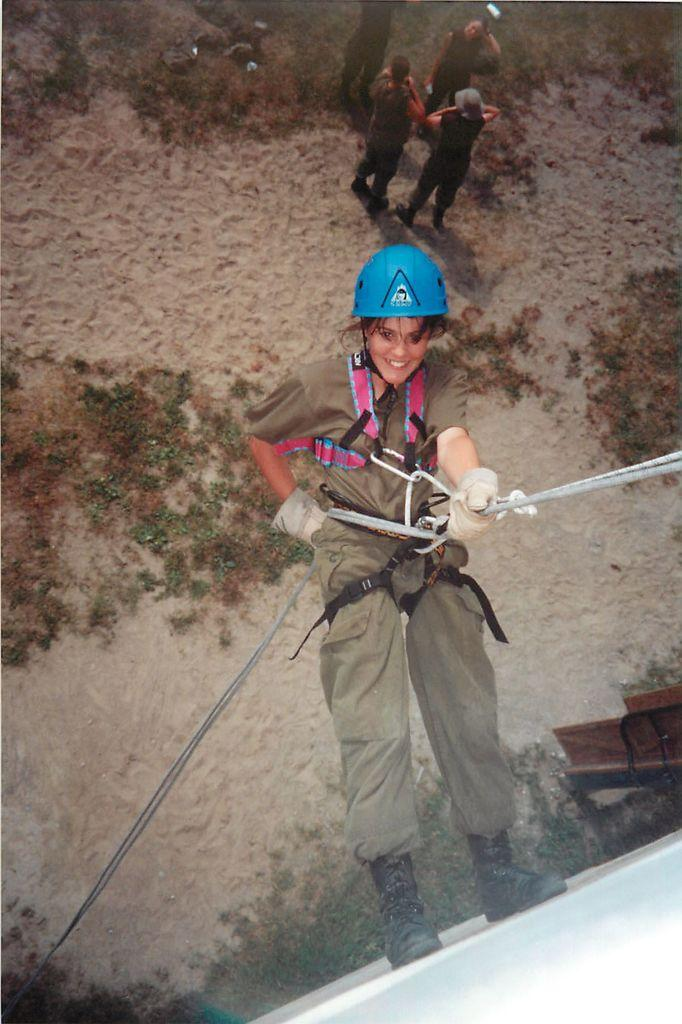Hat: (455, 89, 484, 119)
